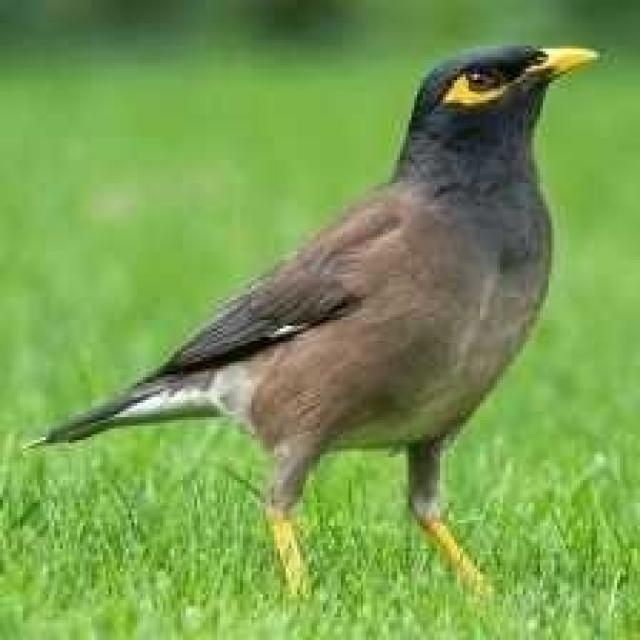bird: (45, 40, 606, 601)
